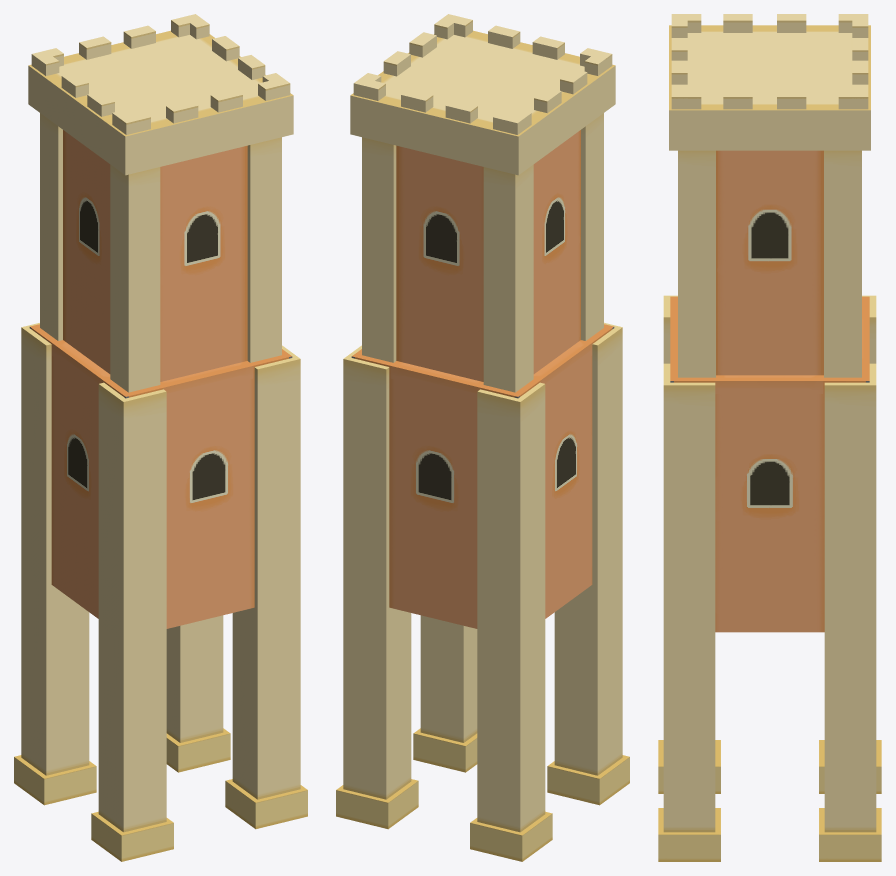
The model's file is dottower.fbx.
3 renders of one model, left to right at view 1: azimuth 30°, elevation 25°; view 2: azimuth 150°, elevation 25°; view 3: azimuth 270°, elevation 25°, orthographic. The views are drawn at different scales.
Parts seen in each view (by area): view 1: dottower_3, dottower_4, dottower_2, dottower_1; view 2: dottower_3, dottower_4, dottower_2, dottower_1; view 3: dottower_4, dottower_3, dottower_2, dottower_1.
Boxes of the visible parts, box(x1,y1,x2,y2) form: dottower_3: box(14, 323, 307, 861); dottower_4: box(28, 30, 293, 628); dottower_2: box(40, 113, 281, 392); dottower_1: box(31, 14, 290, 134); dottower_3: box(336, 322, 629, 861); dottower_4: box(350, 30, 615, 628); dottower_2: box(362, 113, 603, 392); dottower_1: box(353, 14, 612, 134); dottower_4: box(669, 25, 870, 632); dottower_3: box(658, 295, 881, 861); dottower_2: box(678, 150, 861, 377); dottower_1: box(671, 14, 868, 109).
Size of the model in its own units: 253 by 949 by 253.
